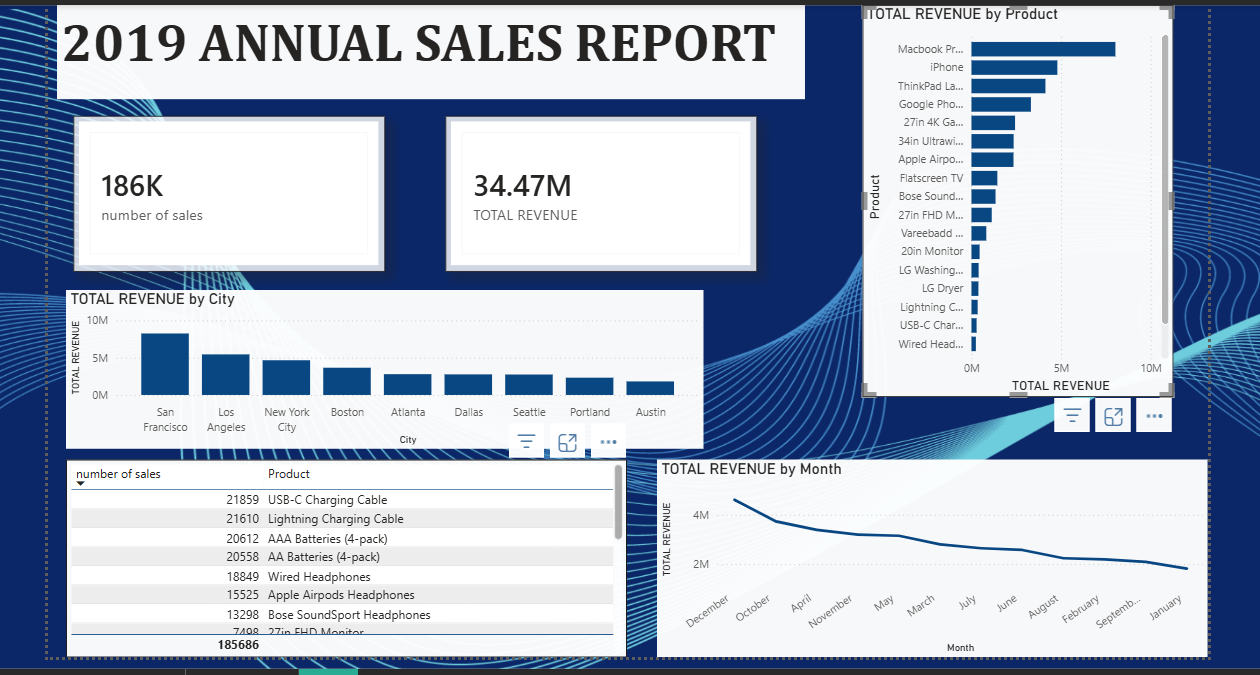

The dashboard page shown, as its layout file describes it:
{"tool":"powerbi","page":{"name":"Page 1","canvas":[1280,720],"ordinal":0},"visuals":[{"type":"textbox","box":[9.4,0,825.8,103.9],"z":0},{"type":"cardVisual","fields":{"Data":["2019_sales cleaned (2).TOTAL SALES"]},"box":[438.4,122.8,343.9,172],"z":1000},{"type":"cardVisual","fields":{"Data":["2019_sales cleaned (2).number of sales"]},"box":[28.3,122.8,343.9,172],"z":2000},{"type":"lineChart","fields":{"Y":["2019_sales cleaned (2).TOTAL REVENUE"],"Category":["2019_sales cleaned (2).Month"]},"box":[672.5,501.9,607.9,218.7],"z":3000},{"type":"clusteredBarChart","fields":{"Y":["2019_sales cleaned (2).TOTAL REVENUE"],"Category":["2019_sales cleaned (2).Product"]},"box":[897.8,16.6,342.9,432.3],"z":4000},{"type":"clusteredColumnChart","fields":{"Category":["2019_sales cleaned (2).City"],"Y":["2019_sales cleaned (2).TOTAL REVENUE"]},"box":[19.9,314.7,704,175.6],"z":5000},{"type":"tableEx","fields":{"Values":["2019_sales cleaned (2).number of sales","2019_sales cleaned (2).Product"]},"box":[19.9,501.9,619.5,218.7],"z":5001}]}

Visuals, with their boxes in screenshot pixels (x1, y1, x2, y2):
textbox: (left=64, top=7, right=802, bottom=99)
cardVisual - 2019_sales cleaned (2).TOTAL SALES: (left=447, top=116, right=754, bottom=270)
cardVisual - 2019_sales cleaned (2).number of sales: (left=81, top=116, right=388, bottom=270)
lineChart - 2019_sales cleaned (2).TOTAL REVENUE x 2019_sales cleaned (2).Month: (left=656, top=455, right=1199, bottom=650)
clusteredBarChart - 2019_sales cleaned (2).TOTAL REVENUE x 2019_sales cleaned (2).Product: (left=858, top=21, right=1164, bottom=407)
clusteredColumnChart - 2019_sales cleaned (2).City x 2019_sales cleaned (2).TOTAL REVENUE: (left=74, top=288, right=702, bottom=444)
tableEx - 2019_sales cleaned (2).number of sales x 2019_sales cleaned (2).Product: (left=74, top=455, right=627, bottom=650)
